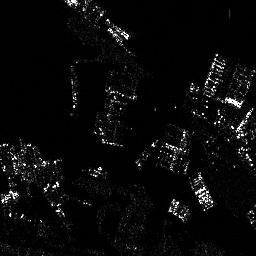ship: (105, 18, 133, 42), (66, 63, 79, 109)
